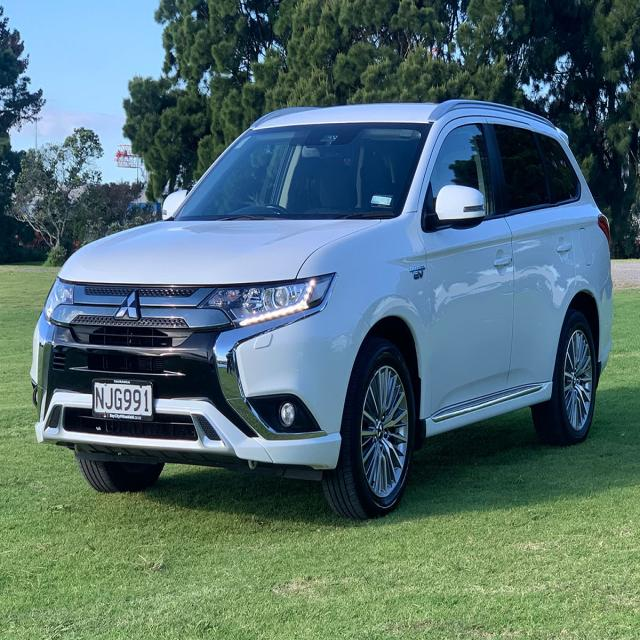light_vehicle: (29, 99, 614, 520)
